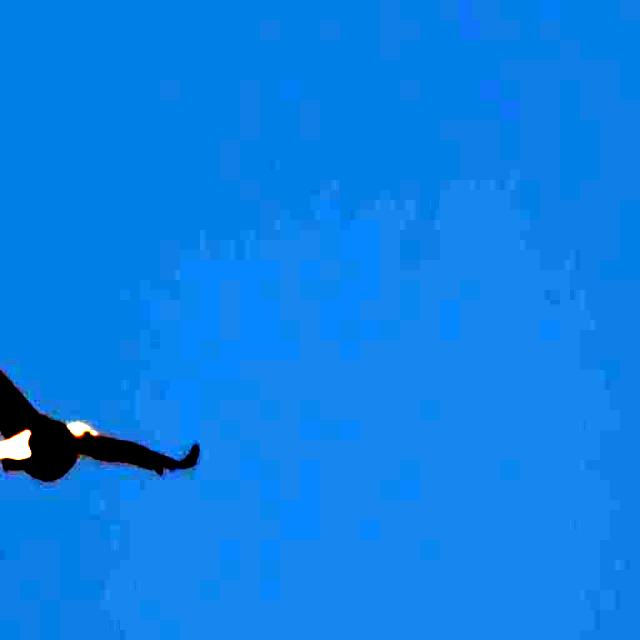airplane: (0, 265, 206, 496)
